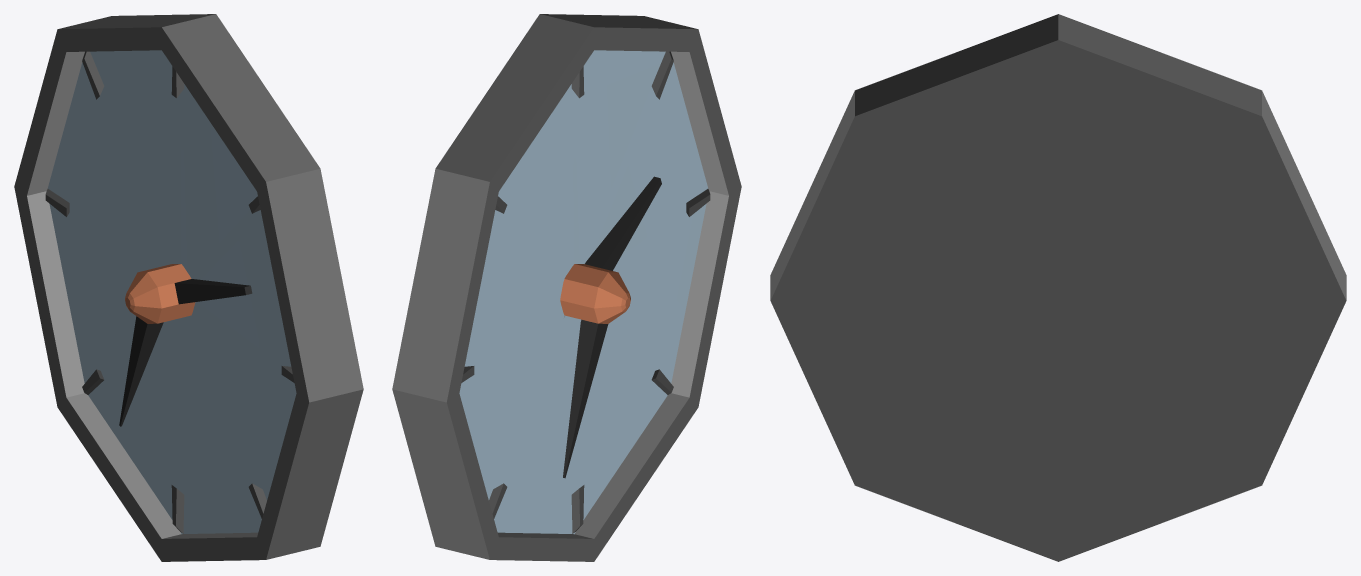
The model's file is Wall Clock 4.fbx.
The picture shows the model from 3 angles, left to right: view 1: azimuth 30°, elevation 25°; view 2: azimuth 150°, elevation 25°; view 3: azimuth 270°, elevation 25°; orthographic projection. The views are drawn at different scales.
Visible parts, largest first — view 1: Node 0, Node 2, Node 1; view 2: Node 0, Node 2, Node 1; view 3: Node 0.
Part boxes in pixels (left/top/right/bottom): Node 0: left=14, top=14, right=363, bottom=561; Node 2: left=119, top=268, right=178, bottom=426; Node 1: left=155, top=264, right=252, bottom=319; Node 0: left=392, top=14, right=741, bottom=561; Node 2: left=563, top=268, right=630, bottom=478; Node 1: left=560, top=176, right=661, bottom=319; Node 0: left=770, top=14, right=1346, bottom=561.
Size of the model in its own units: 0.1603 by 0.9272 by 0.9272.
